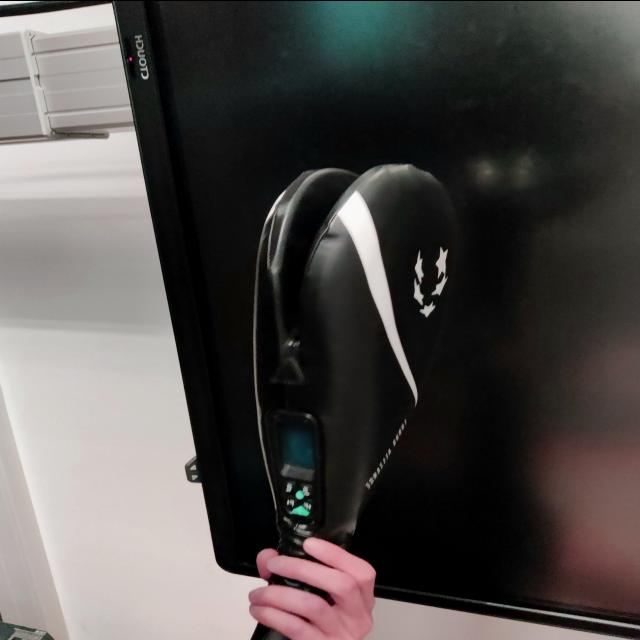paddle: (242, 156, 464, 640)
